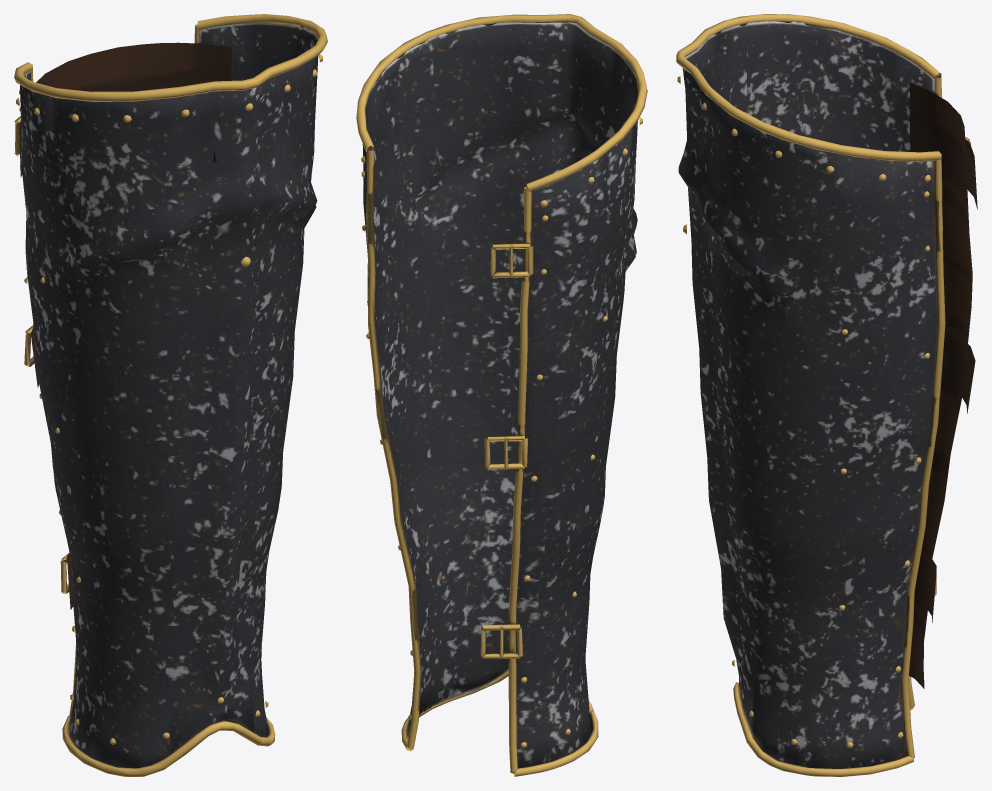
Rendered from SM_EagleGreaves_R_LOD2.fbx.
The picture shows the model from 3 angles, left to right: view 1: azimuth 30°, elevation 25°; view 2: azimuth 150°, elevation 25°; view 3: azimuth 270°, elevation 25°; orthographic projection. The views are drawn at different scales.
Visible parts, largest first — view 1: SM_EagleGreaves_R_LOD2; view 2: SM_EagleGreaves_R_LOD2; view 3: SM_EagleGreaves_R_LOD2.
Boxes of the visible parts, x1,y1,x2,y2 form: SM_EagleGreaves_R_LOD2: (14,14,327,776); SM_EagleGreaves_R_LOD2: (356,14,647,776); SM_EagleGreaves_R_LOD2: (676,14,977,776).
Size of the model in its own units: 0.1491 by 0.3745 by 0.1499.
